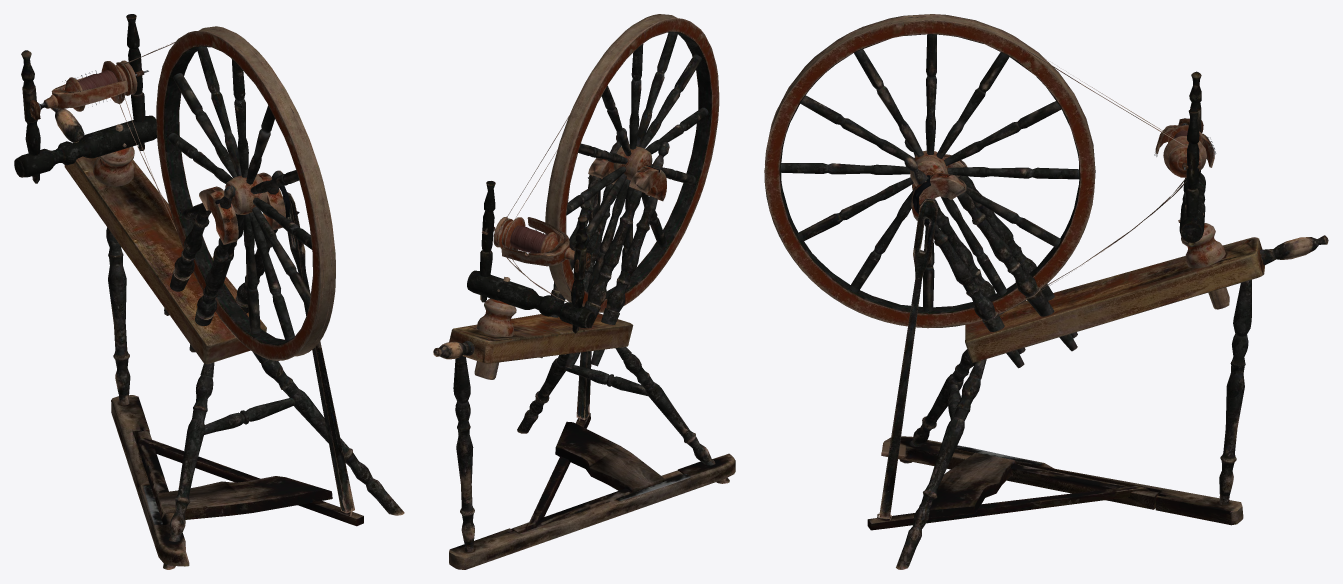
File: spinning_wheel_01.glb
3 views of the same model, side by side, from view 1: azimuth 30°, elevation 25°; view 2: azimuth 150°, elevation 25°; view 3: azimuth 270°, elevation 25° (orthographic). The views are drawn at different scales.
Parts seen in each view (by area): view 1: spinning_wheel_01; view 2: spinning_wheel_01; view 3: spinning_wheel_01.
Part boxes in pixels (x1,y1,x2,y2): spinning_wheel_01: [14, 14, 404, 569]; spinning_wheel_01: [433, 14, 735, 569]; spinning_wheel_01: [764, 14, 1328, 569].
Bounding box in the file's own units: 0.4893 × 0.9657 × 1.02.
Materials: 1 (1 with a texture image).
